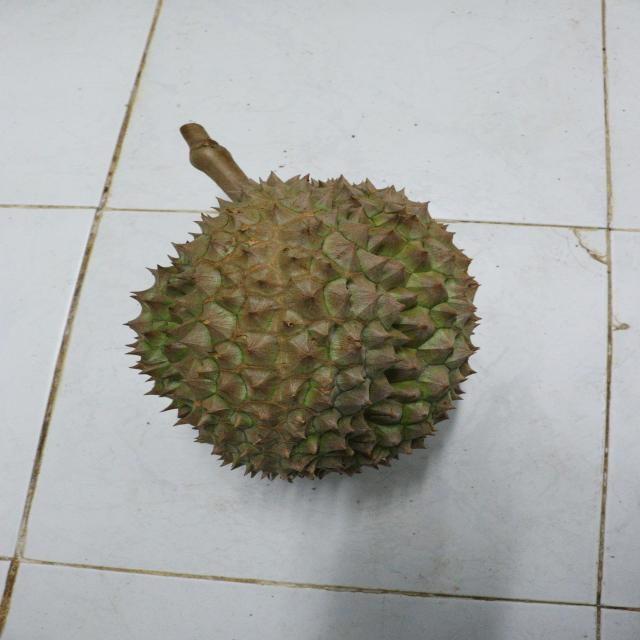mature: (122, 170, 487, 484)
